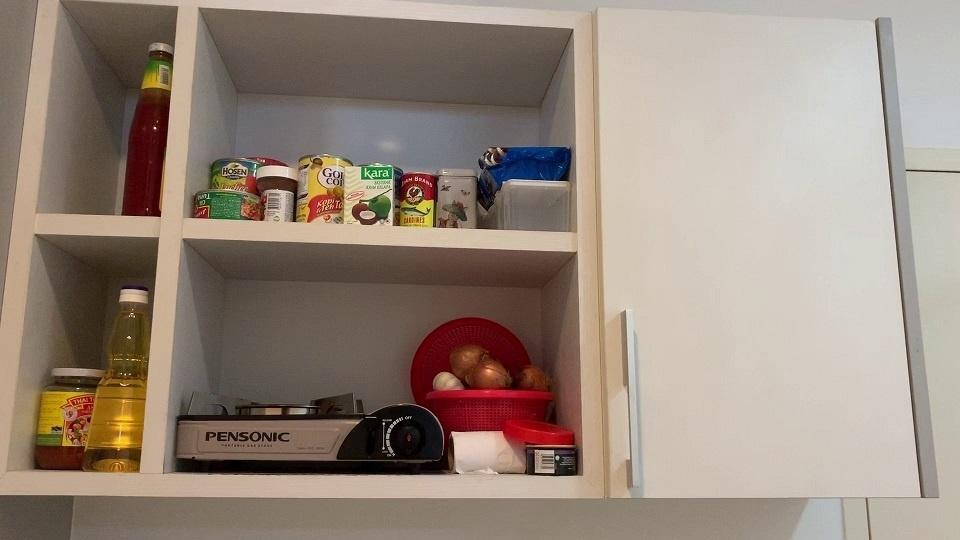cabinet_door: (597, 21, 888, 498)
handle: (610, 308, 654, 493)
